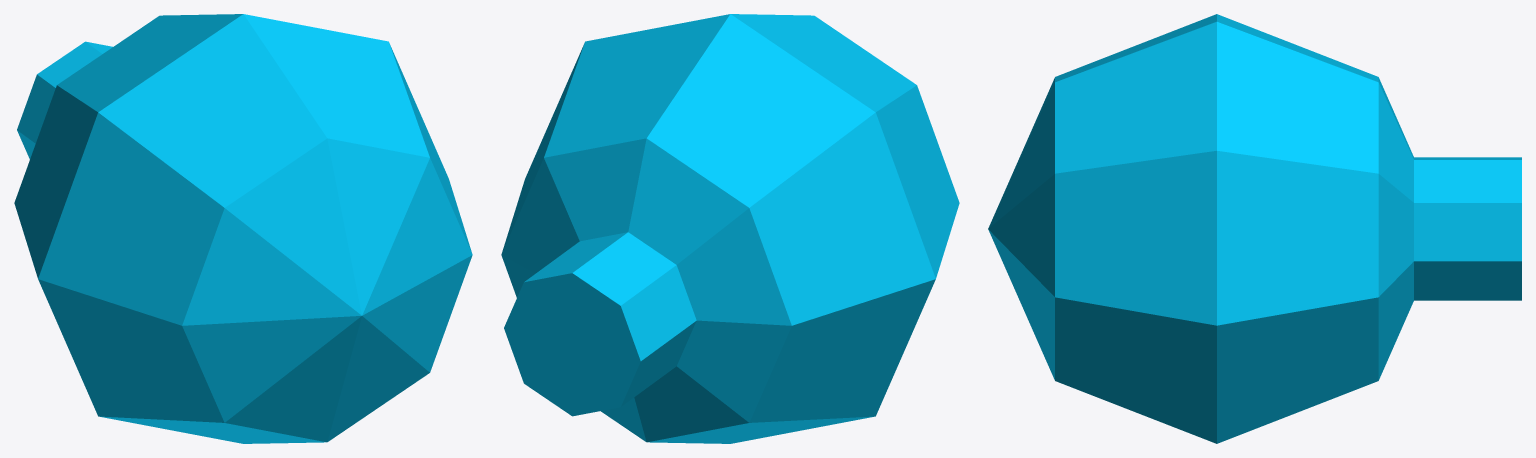
Rendered from wild_glowcap.obj.
3 views of the same model, side by side, from view 1: azimuth 30°, elevation 25°; view 2: azimuth 150°, elevation 25°; view 3: azimuth 270°, elevation 25° (orthographic). The views are drawn at different scales.
Size of the model in its own units: 1.2 by 1.2 by 1.4.
